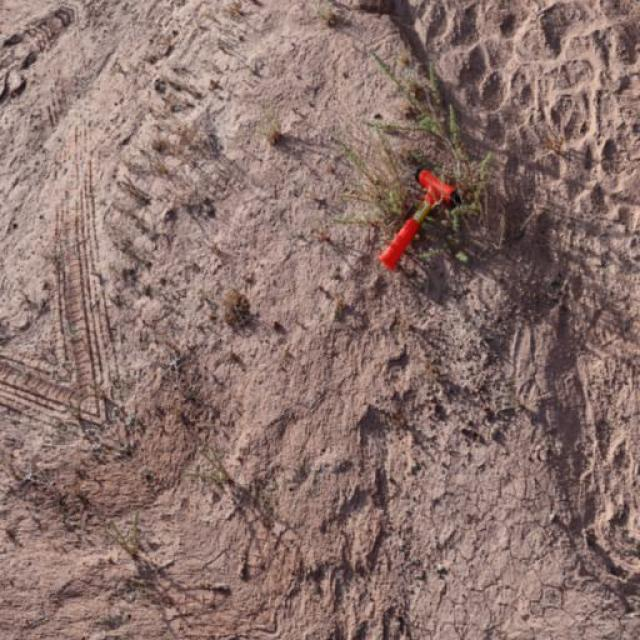mallet: (376, 166, 456, 272)
